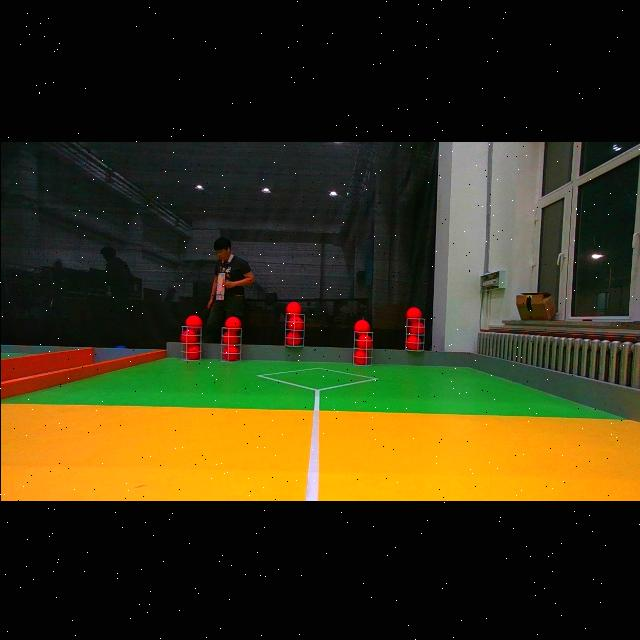R: (408, 317, 424, 333), (224, 316, 242, 330), (221, 344, 239, 358), (184, 314, 202, 328), (355, 318, 371, 332), (286, 330, 302, 344), (186, 342, 200, 358), (285, 299, 301, 312), (407, 334, 421, 348), (358, 334, 372, 348), (354, 349, 368, 363), (223, 329, 237, 343), (288, 316, 304, 328), (180, 330, 196, 342), (405, 305, 422, 316)
S: (350, 328, 374, 366), (218, 326, 242, 360), (180, 324, 204, 358), (404, 314, 426, 350), (284, 310, 306, 346)
